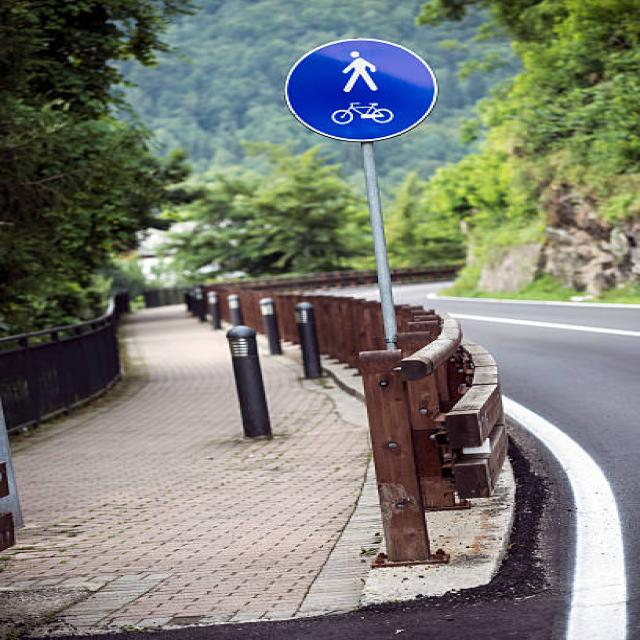bicycle: (269, 23, 462, 147)
